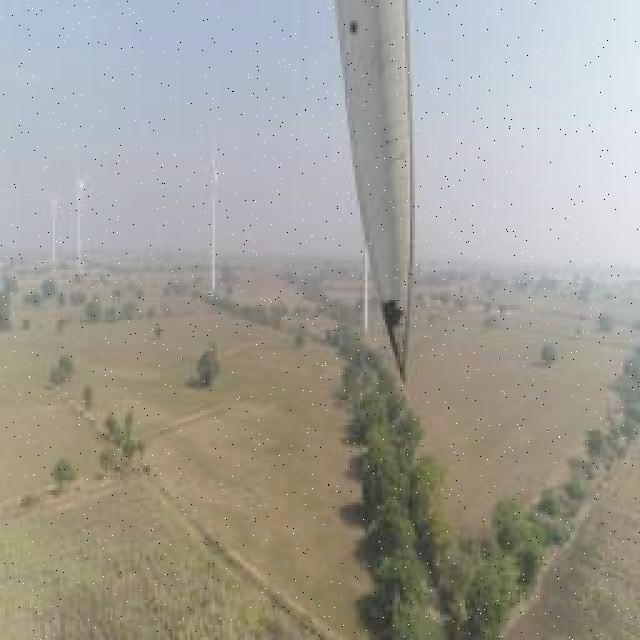Dirt: (335, 0, 414, 379)
Oil LEAKAGE: (381, 298, 409, 378)
Pin Hole: (345, 16, 362, 36)
